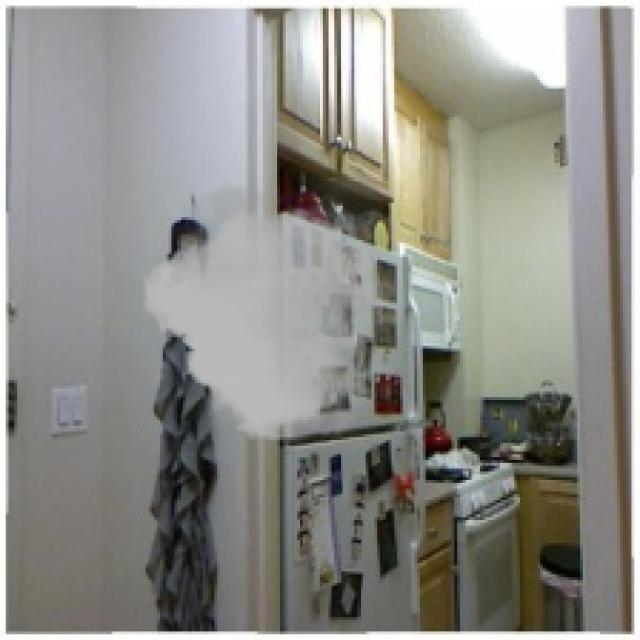Smoke: (143, 177, 383, 446)
